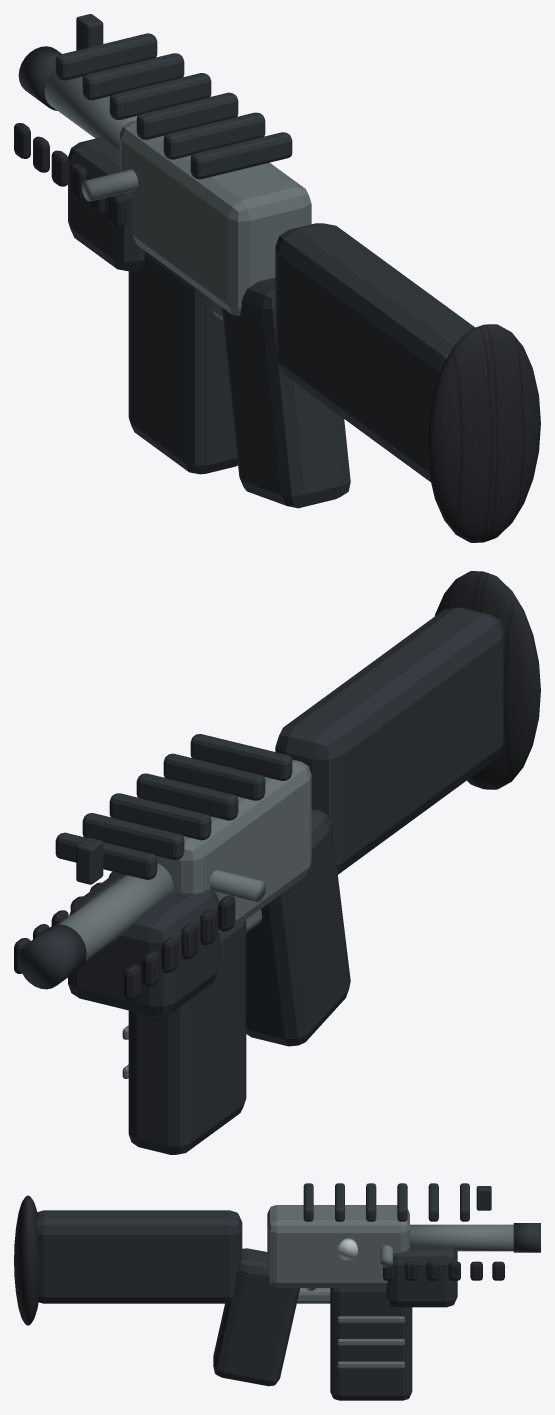
File: mc_smg.glb
The picture shows the model from 3 angles, top to bottom: view 1: azimuth 30°, elevation 25°; view 2: azimuth 150°, elevation 25°; view 3: azimuth 270°, elevation 25°; orthographic projection. The views are drawn at different scales.
Parts seen in each view (by area): view 1: mc_smg__Geometry; view 2: mc_smg__Geometry; view 3: mc_smg__Geometry.
Part boxes in pixels (<box>): mc_smg__Geometry: <box>14,14,540,542</box>; mc_smg__Geometry: <box>14,571,540,1154</box>; mc_smg__Geometry: <box>14,1183,540,1400</box>.
Bounding box in the file's own units: 0.143 × 0.294 × 0.6742.
4 materials, 1 textured.
